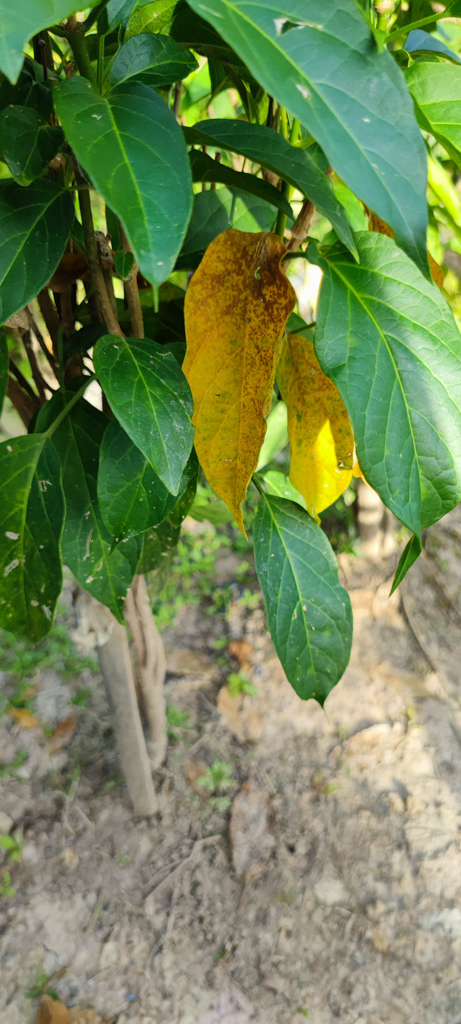Pepper yellow leaf: (186, 222, 287, 535), (281, 322, 370, 523)
